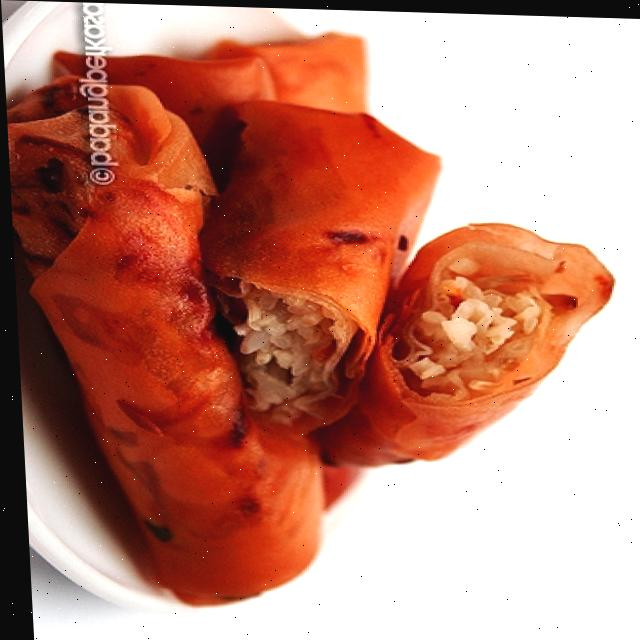炸货点心: (0, 0, 634, 621)
